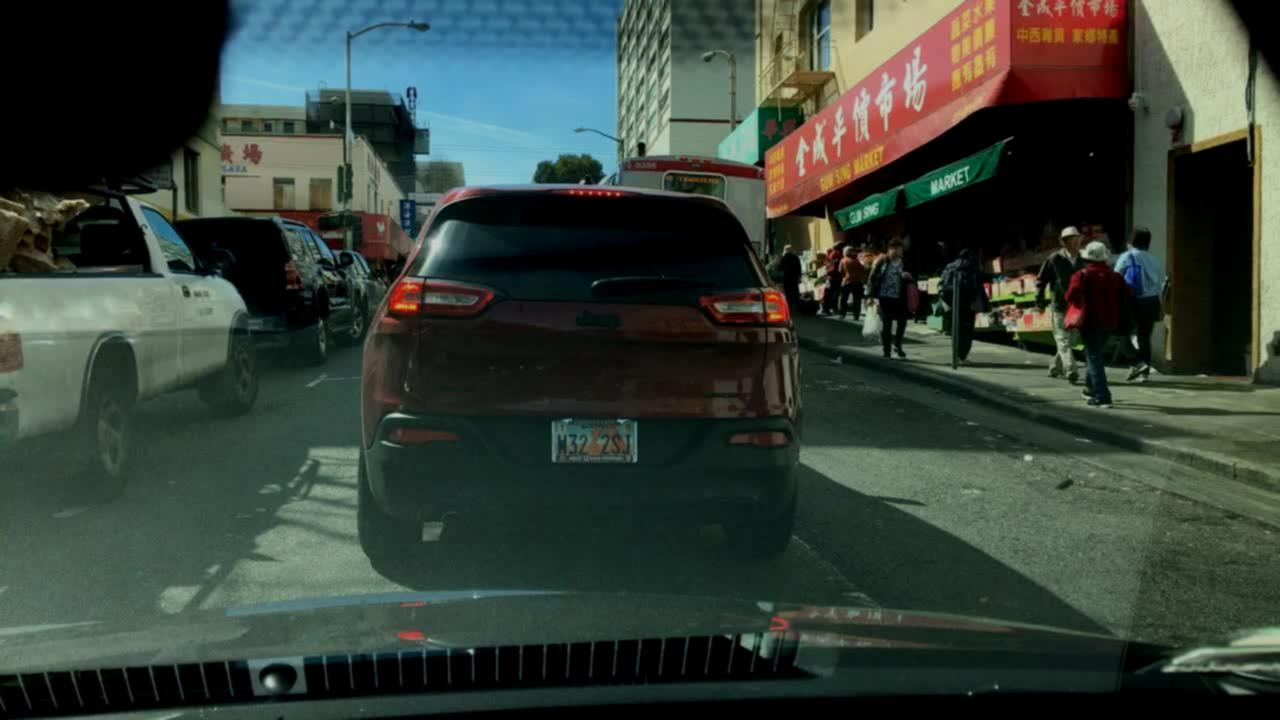jeep: (573, 304, 631, 335)
